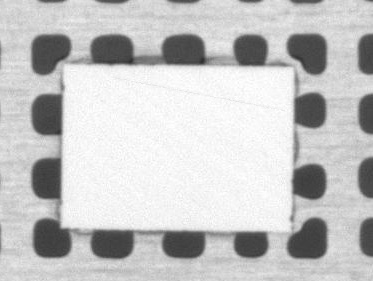DIE_CRACK: (149, 58, 373, 83)
